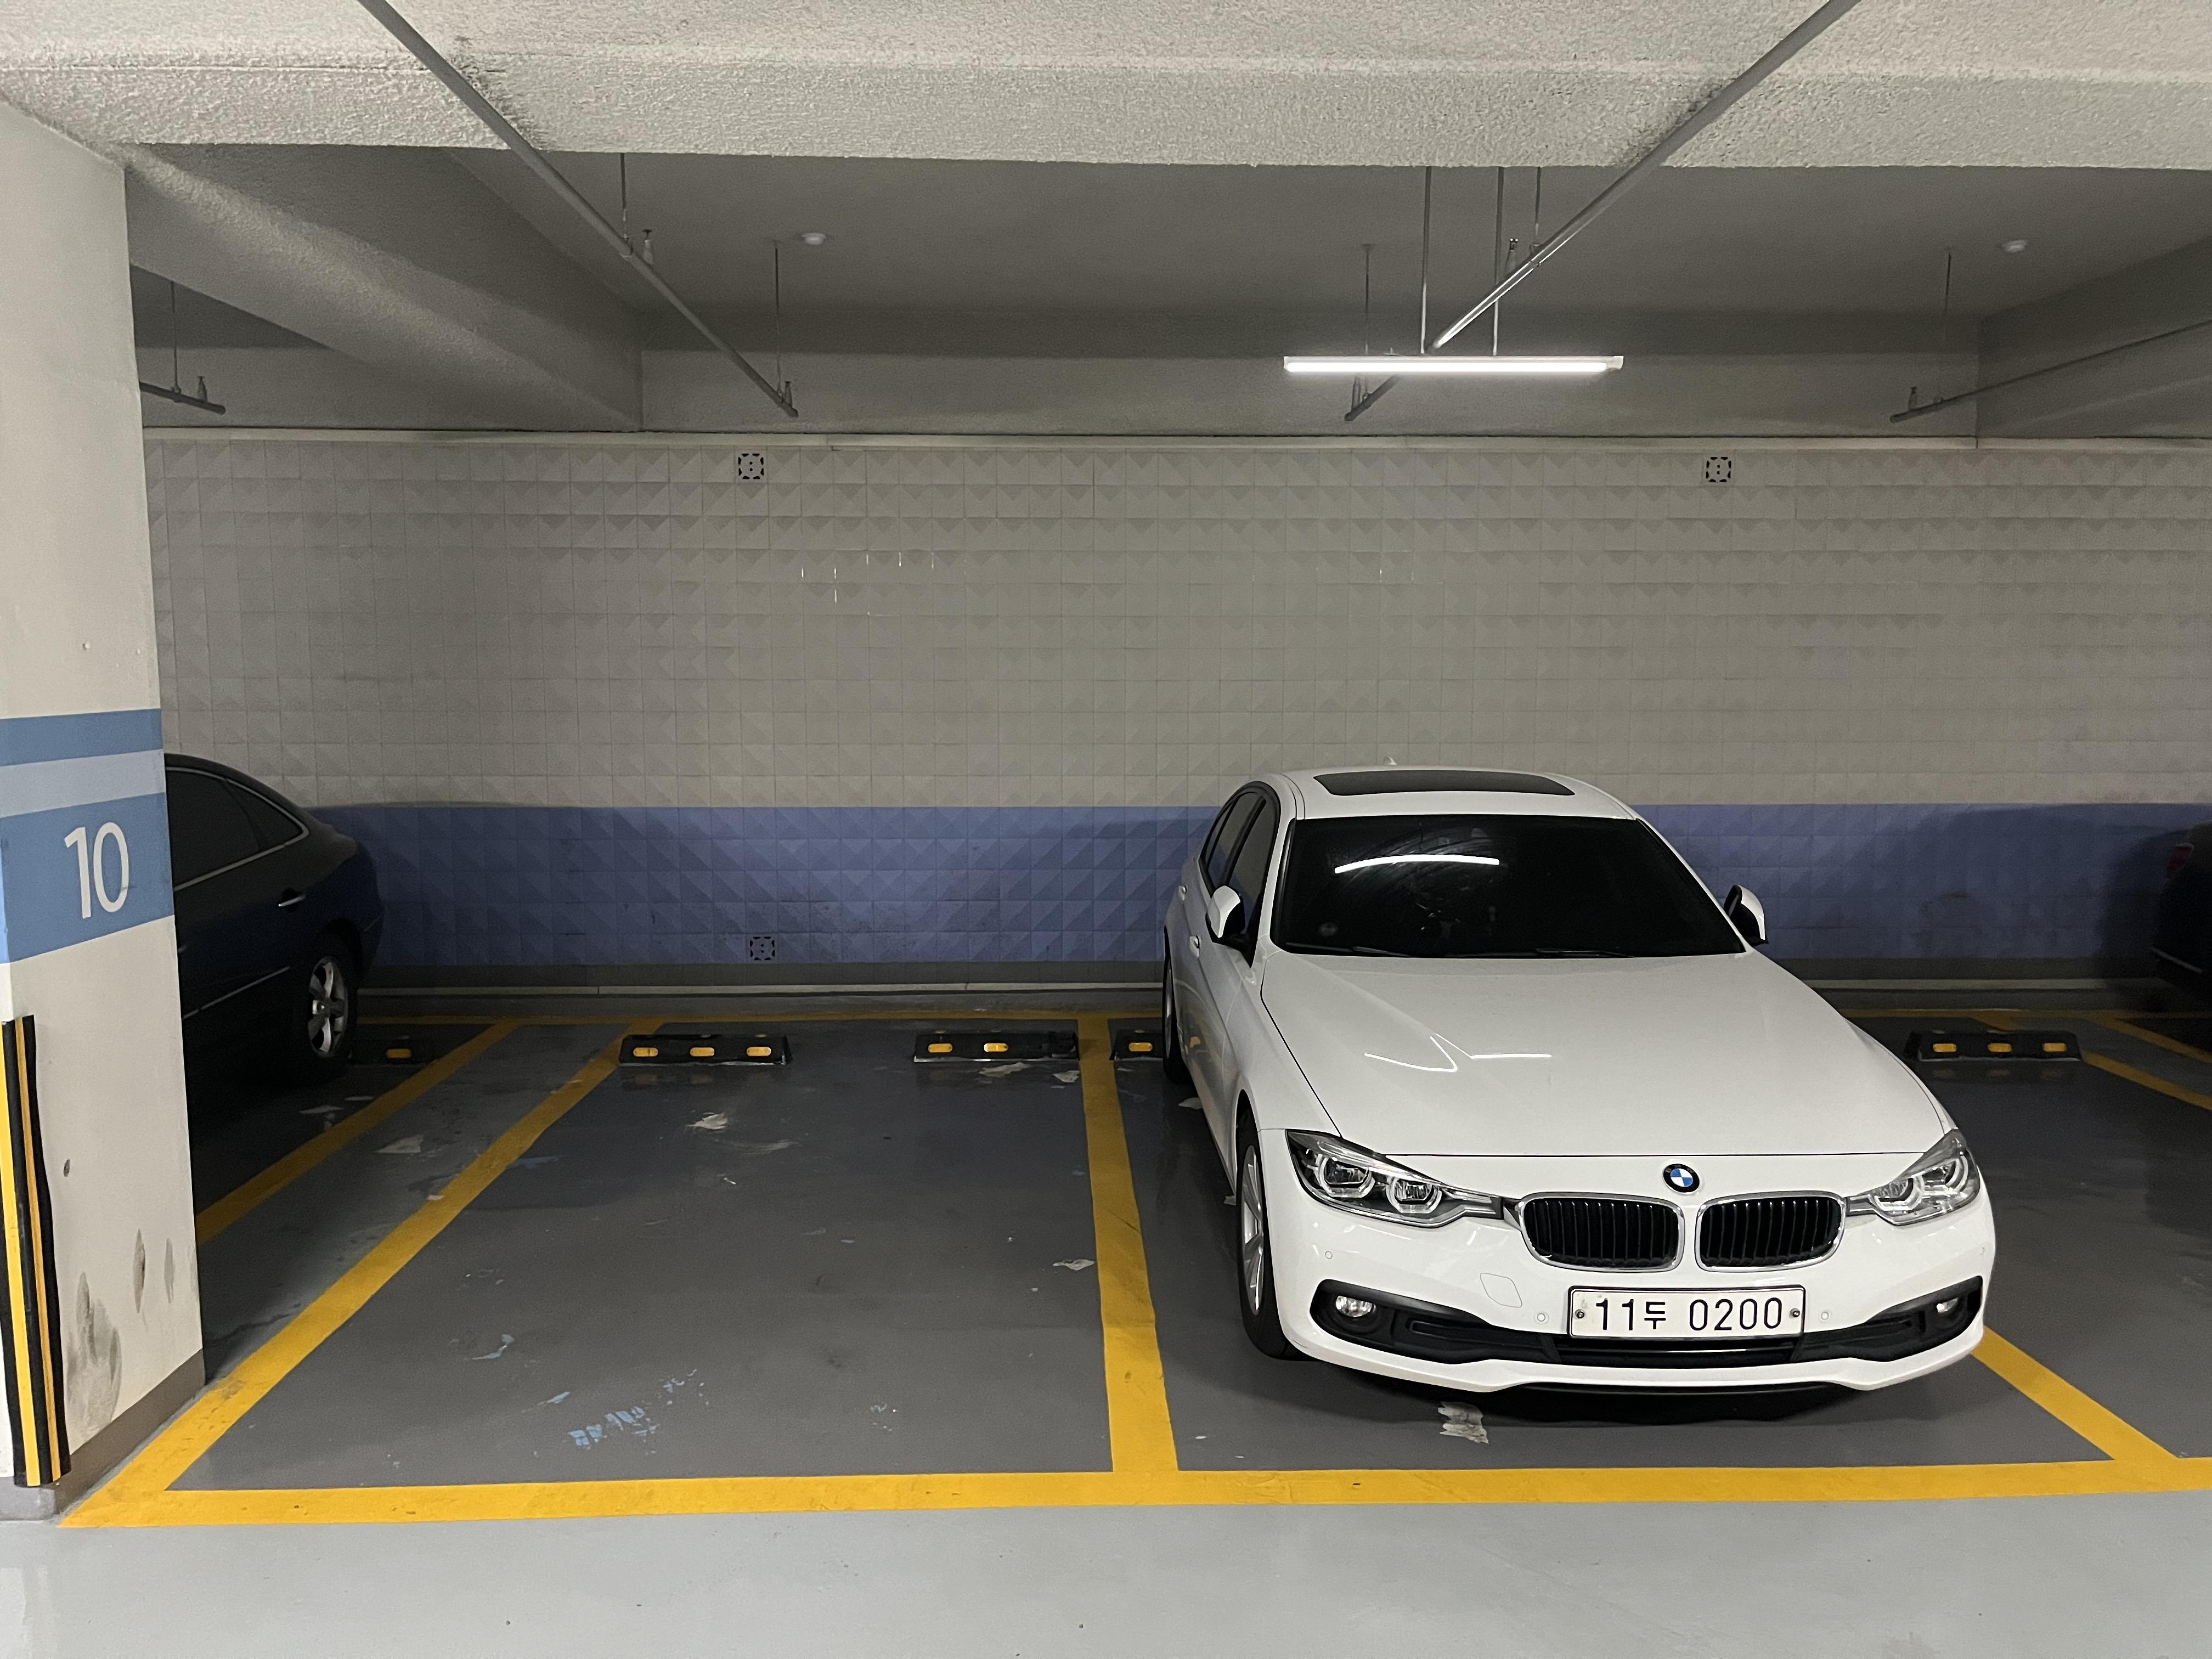empty: (30, 998, 1173, 1545)
occupied: (1180, 675, 2062, 1462)
